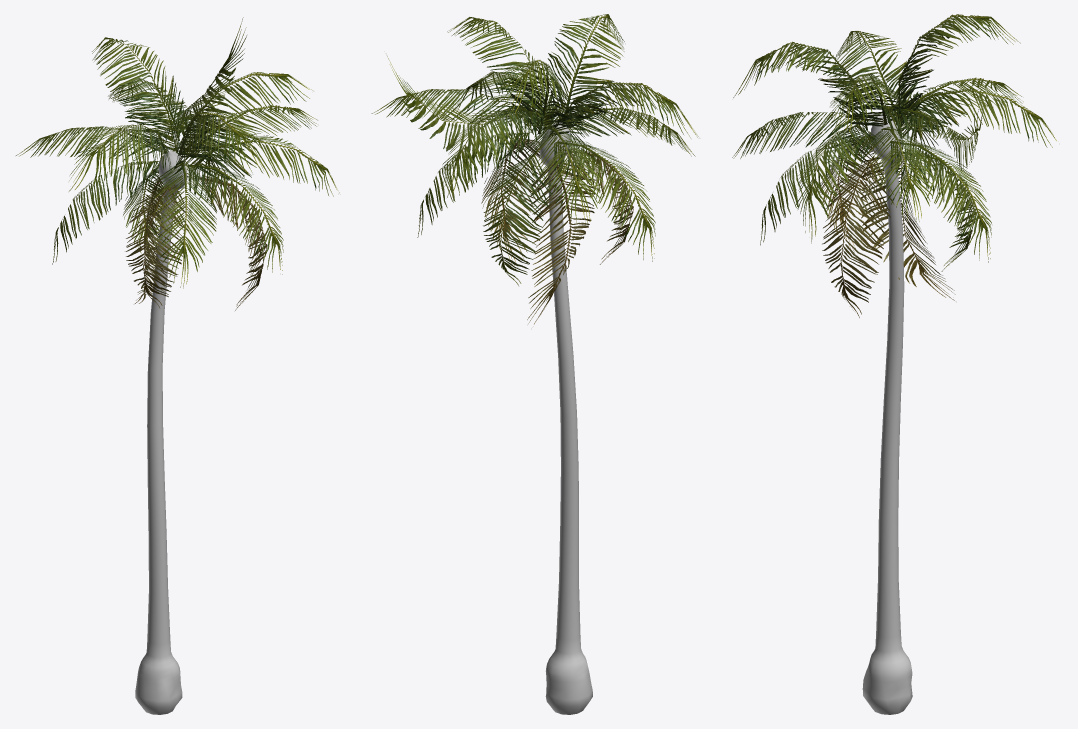
Rendered from SM_Veg_PalmTree_02.FBX.
3 views of the same model, side by side, from view 1: azimuth 30°, elevation 25°; view 2: azimuth 150°, elevation 25°; view 3: azimuth 270°, elevation 25° (orthographic). The views are drawn at different scales.
Visible parts, largest first — view 1: SM_Veg_PalmTree_0_LOD0; view 2: SM_Veg_PalmTree_0_LOD0; view 3: SM_Veg_PalmTree_0_LOD0.
Boxes of the visible parts, x1,y1,x2,y2 form: SM_Veg_PalmTree_0_LOD0: [16, 17, 339, 714]; SM_Veg_PalmTree_0_LOD0: [371, 14, 698, 714]; SM_Veg_PalmTree_0_LOD0: [732, 14, 1056, 714].
Size of what is drawn, in the model's own units: 9.13 by 19.68 by 8.58.
